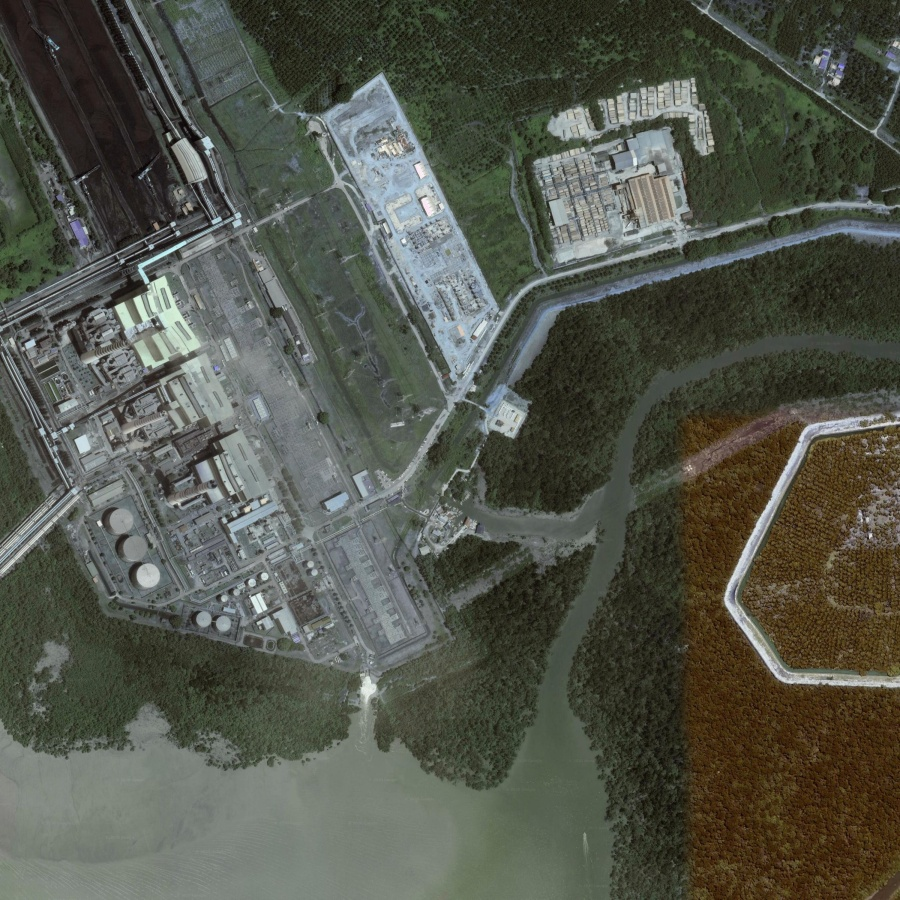PowerPlant: (5, 290, 370, 652)
